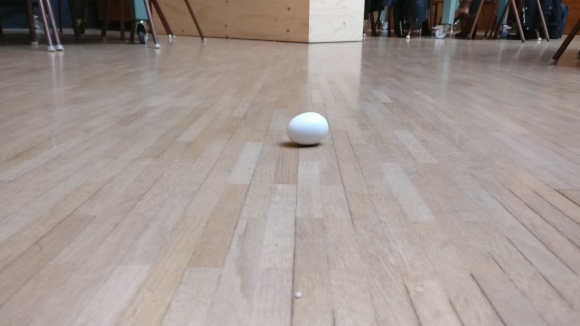egg: (285, 111, 330, 146)
